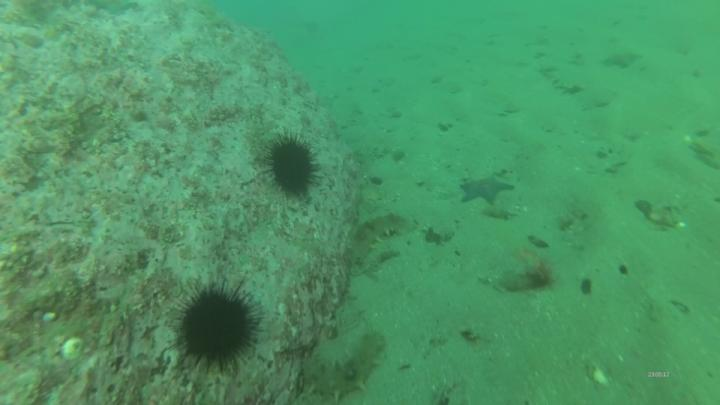echinus: (179, 283, 253, 379), (268, 135, 318, 206)
holothurian: (302, 329, 391, 404), (346, 209, 411, 267)
starfish: (458, 170, 515, 209)
waterweeds: (500, 250, 560, 299)
